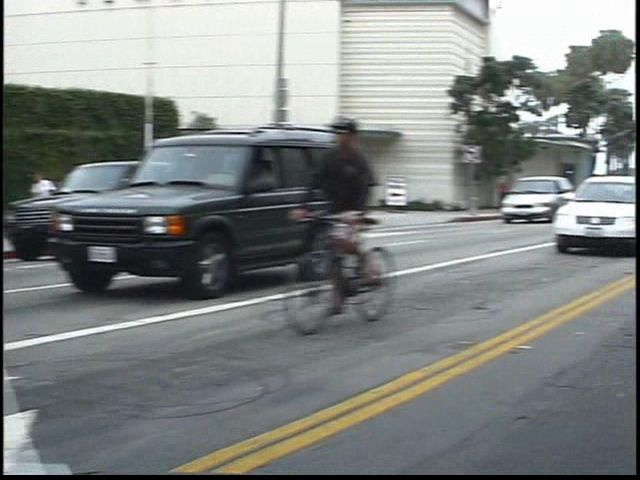person: (331, 110, 416, 318), (52, 168, 81, 243), (513, 171, 534, 217)
